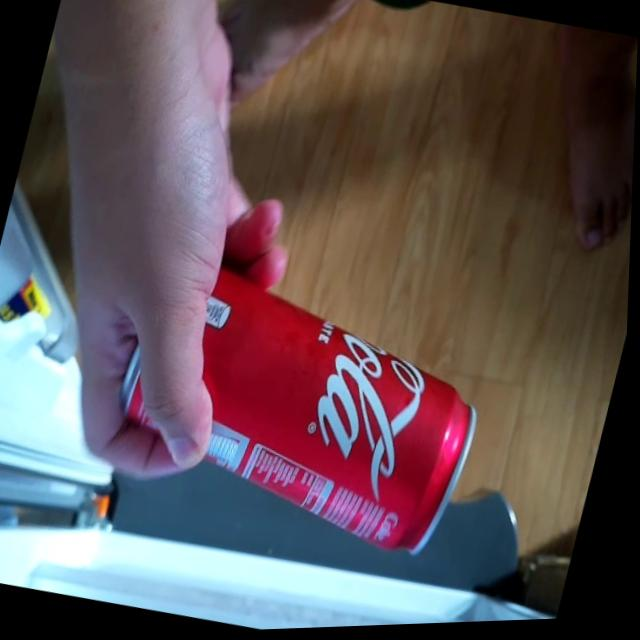coke: (92, 232, 520, 580)
